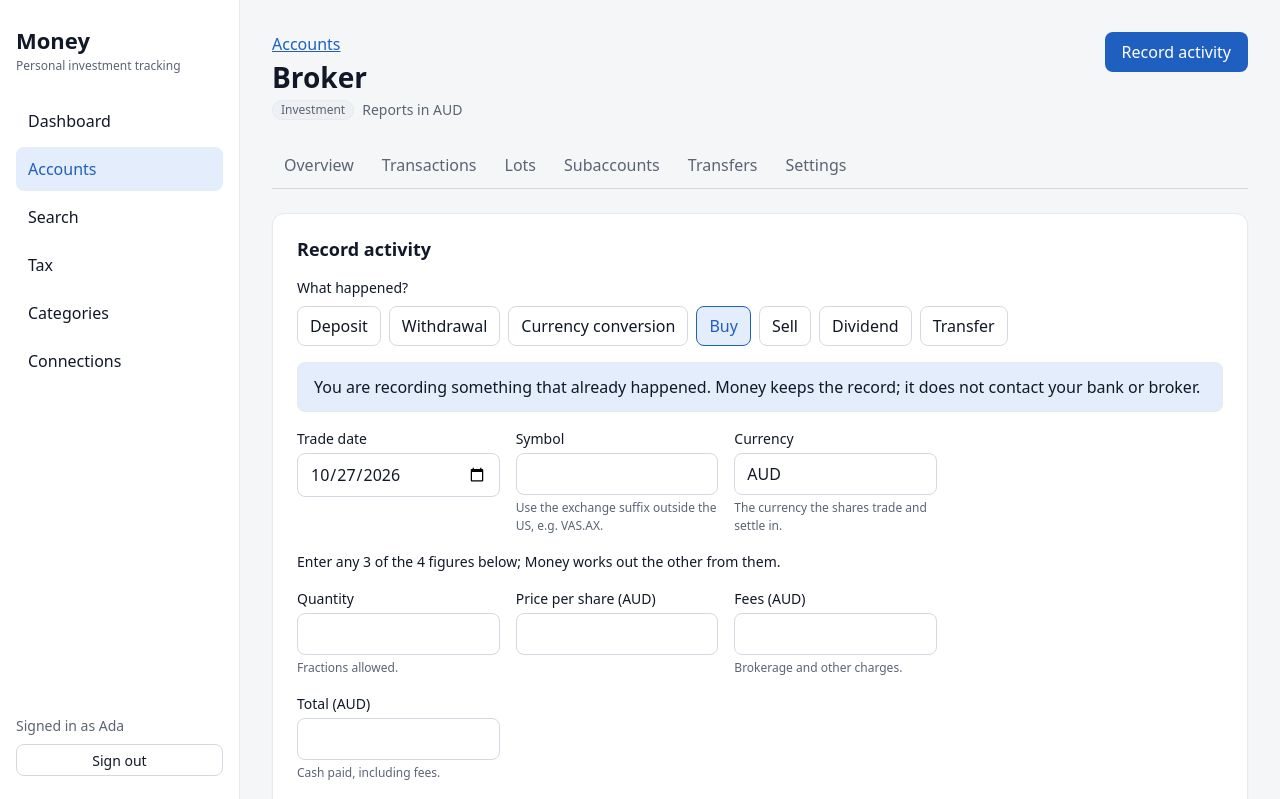
Scenario: recording activity › records a buy from three of four figures and shows what Money calculated
Expected: the text "You are recording something that already happened" is shown, [314, 376, 1200, 398]
Type "2024-01-04" into the date field labelled "Trade date". click: point(398, 474)
box: [297, 452, 500, 496]
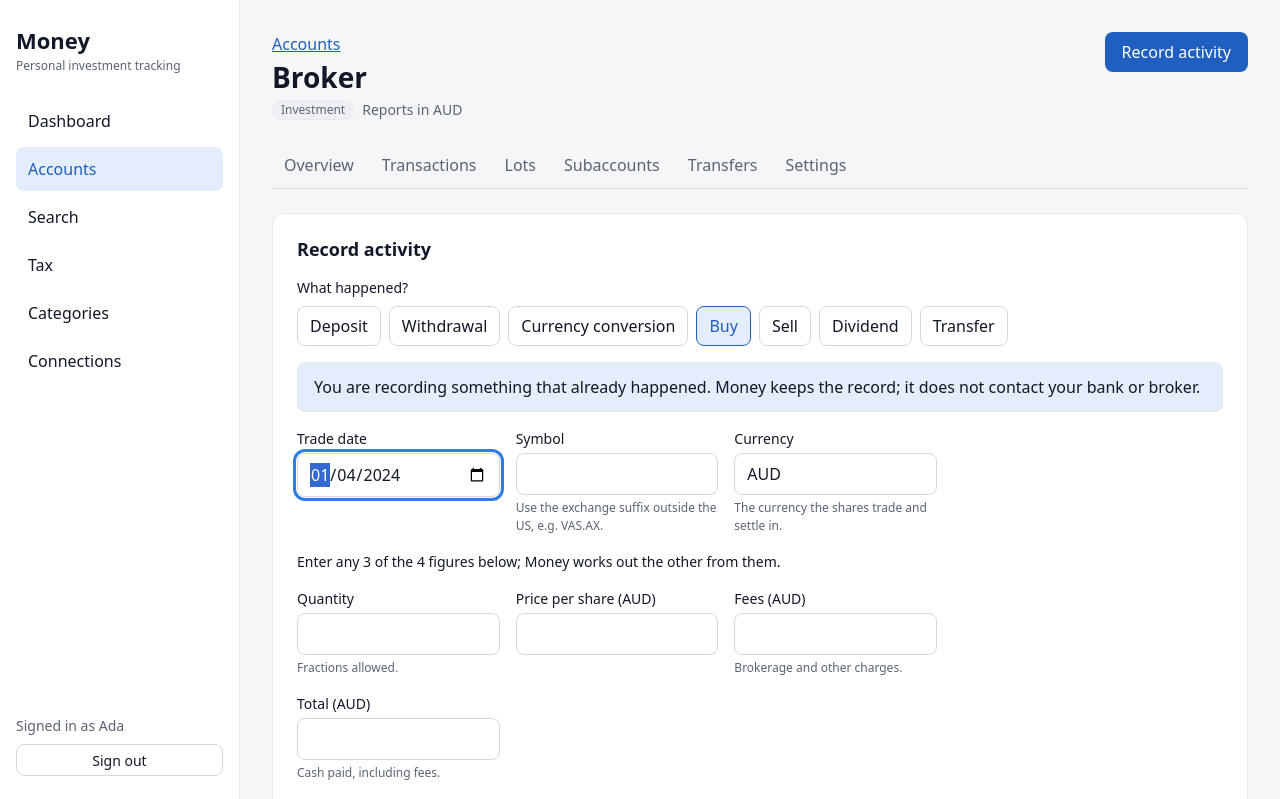
Type "vas.ax" into the field labelled "Symbol". click: point(617, 474)
box: [516, 452, 718, 494]
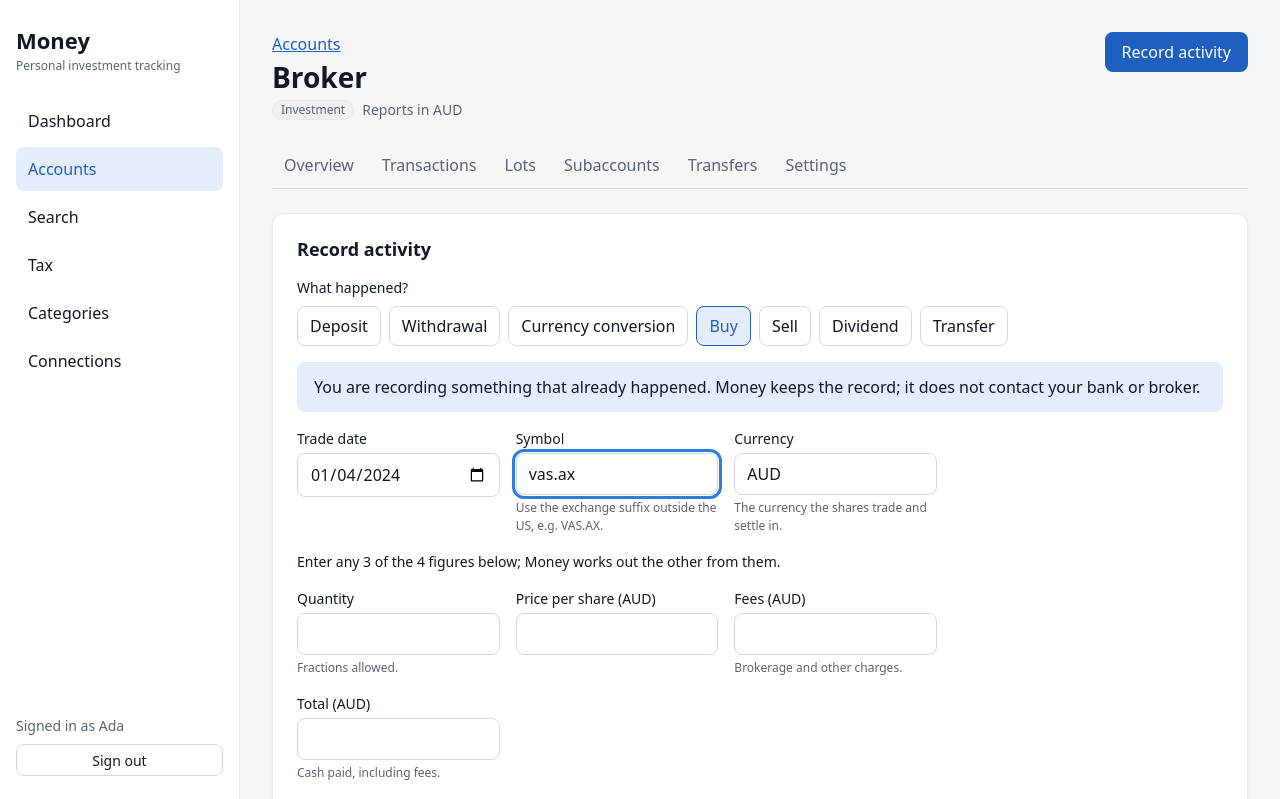
Type "10" into the field labelled "Quantity". click: point(398, 634)
box: [297, 612, 500, 654]
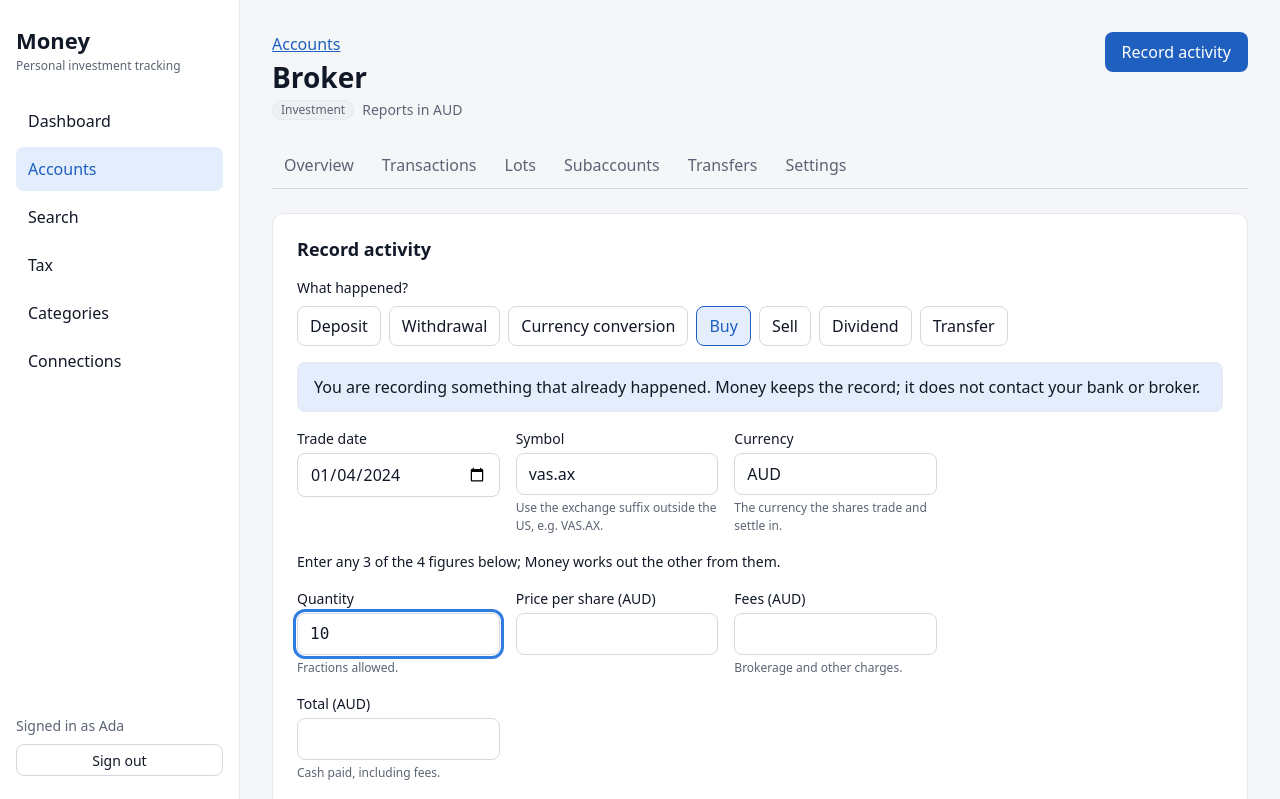
Type "90.5" into the field labelled "Price per share (AUD)". click: point(617, 634)
box: [516, 612, 718, 654]
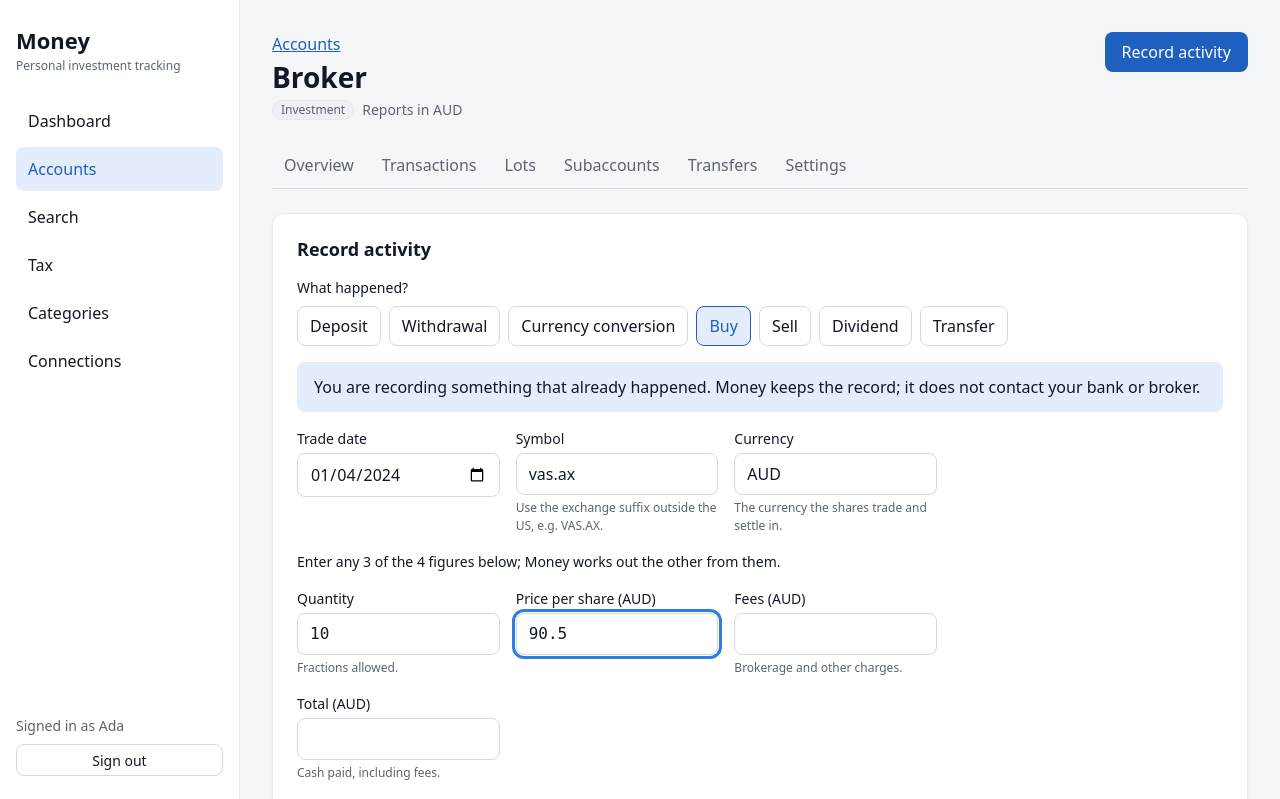
Expected: the text "Enter any 3 of the 4 figures" is shown, [297, 552, 780, 570]
Type "5" into the field labelled "Fees (AUD)". click: point(836, 634)
box: [734, 612, 937, 654]
(page scrolled)
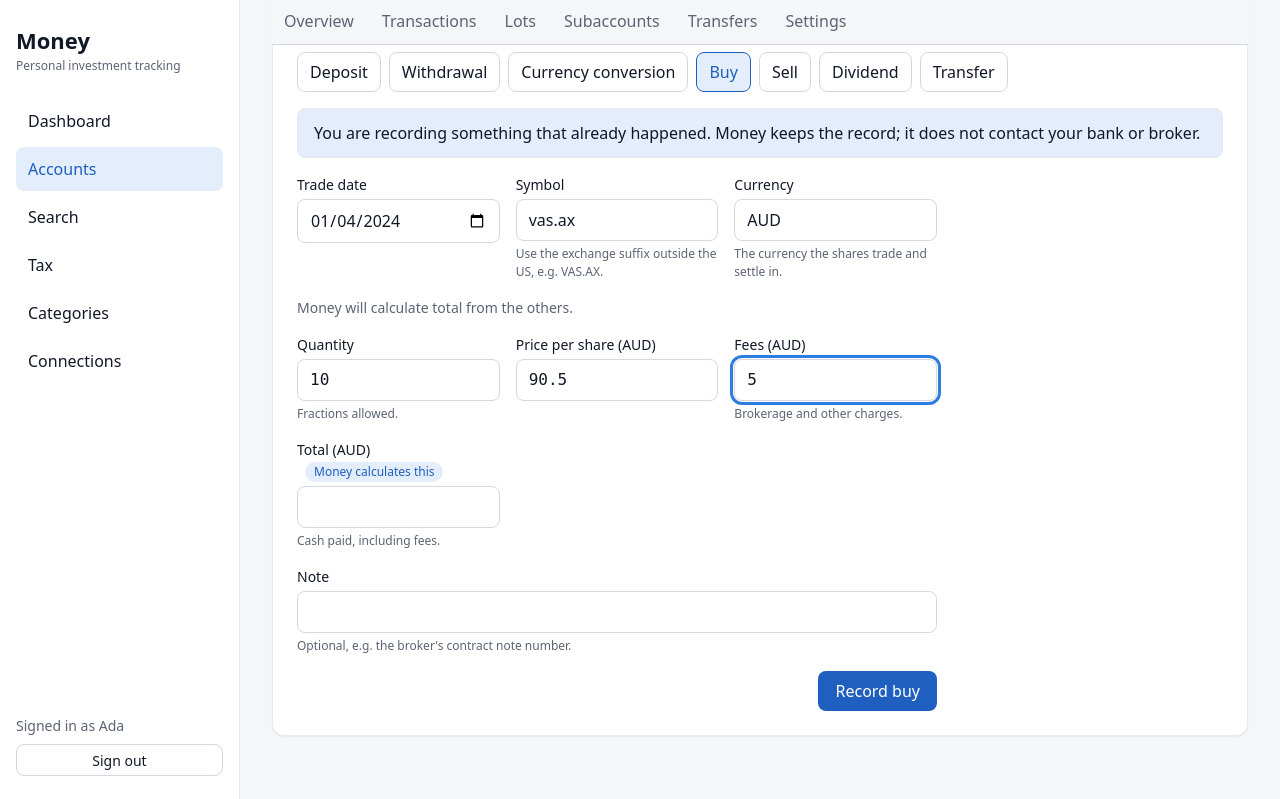
Result: the text "Money will calculate total from the others." is shown at [297, 298, 573, 316]
Result: the text "Money calculates this" is shown at [305, 462, 444, 482]
Click the button "Record buy". click: point(878, 690)
box: [818, 670, 937, 710]
(page scrolled)
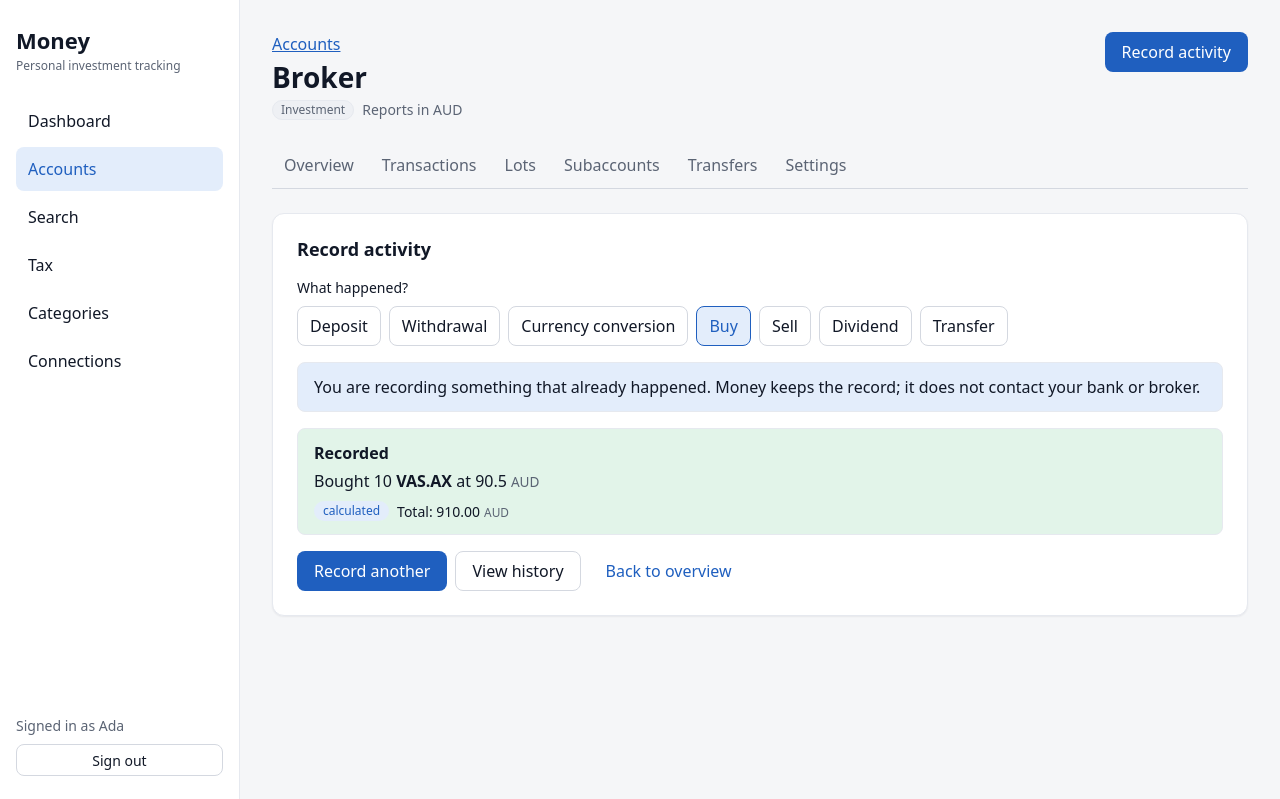
Result: the text "Recorded" is shown at [314, 442, 389, 464]
Result: the text "calculated" is shown at [314, 501, 389, 521]
Result: the text "910.00" is shown at [436, 502, 480, 520]
